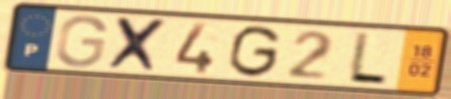2: (285, 29, 337, 82)
4: (173, 20, 218, 76)
G: (225, 23, 284, 80), (53, 13, 110, 69)
L: (343, 30, 391, 87)
X: (104, 14, 173, 75)
